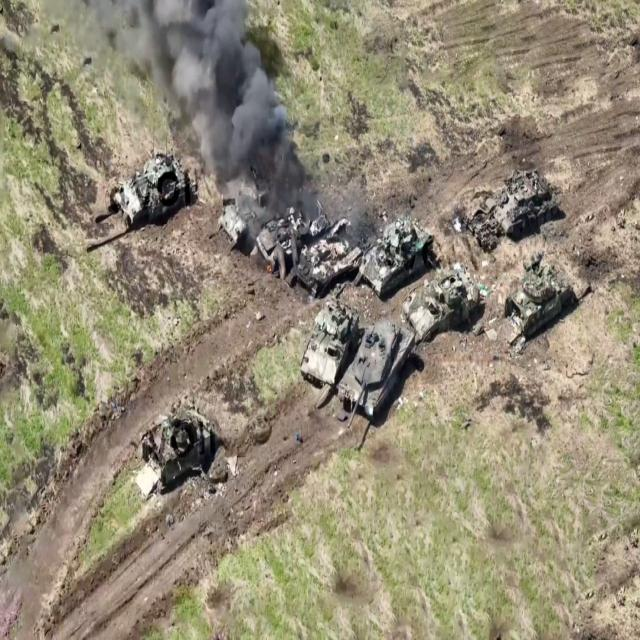AIFV: (355, 216, 436, 302), (404, 263, 487, 342), (495, 263, 576, 343), (115, 156, 200, 228), (300, 298, 361, 386)
Destroyed: (137, 407, 219, 499), (256, 201, 331, 271), (297, 220, 362, 298), (219, 181, 280, 254)
MBT: (336, 318, 420, 432), (487, 161, 565, 238)
